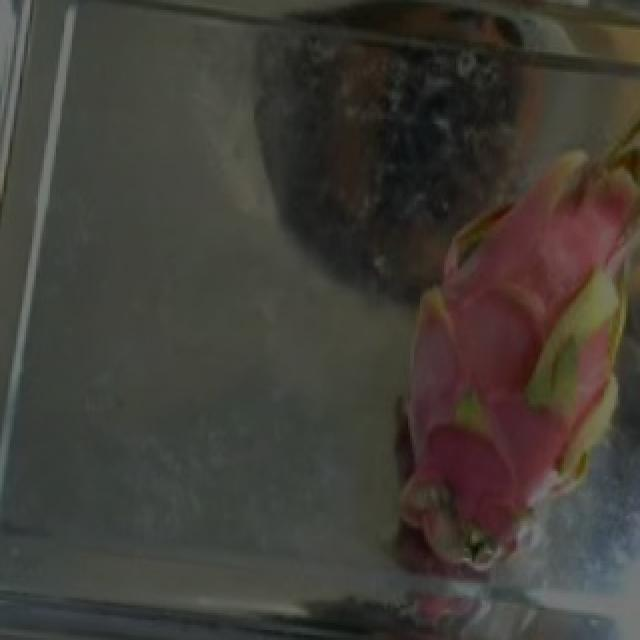fruit: (334, 168, 640, 602)
